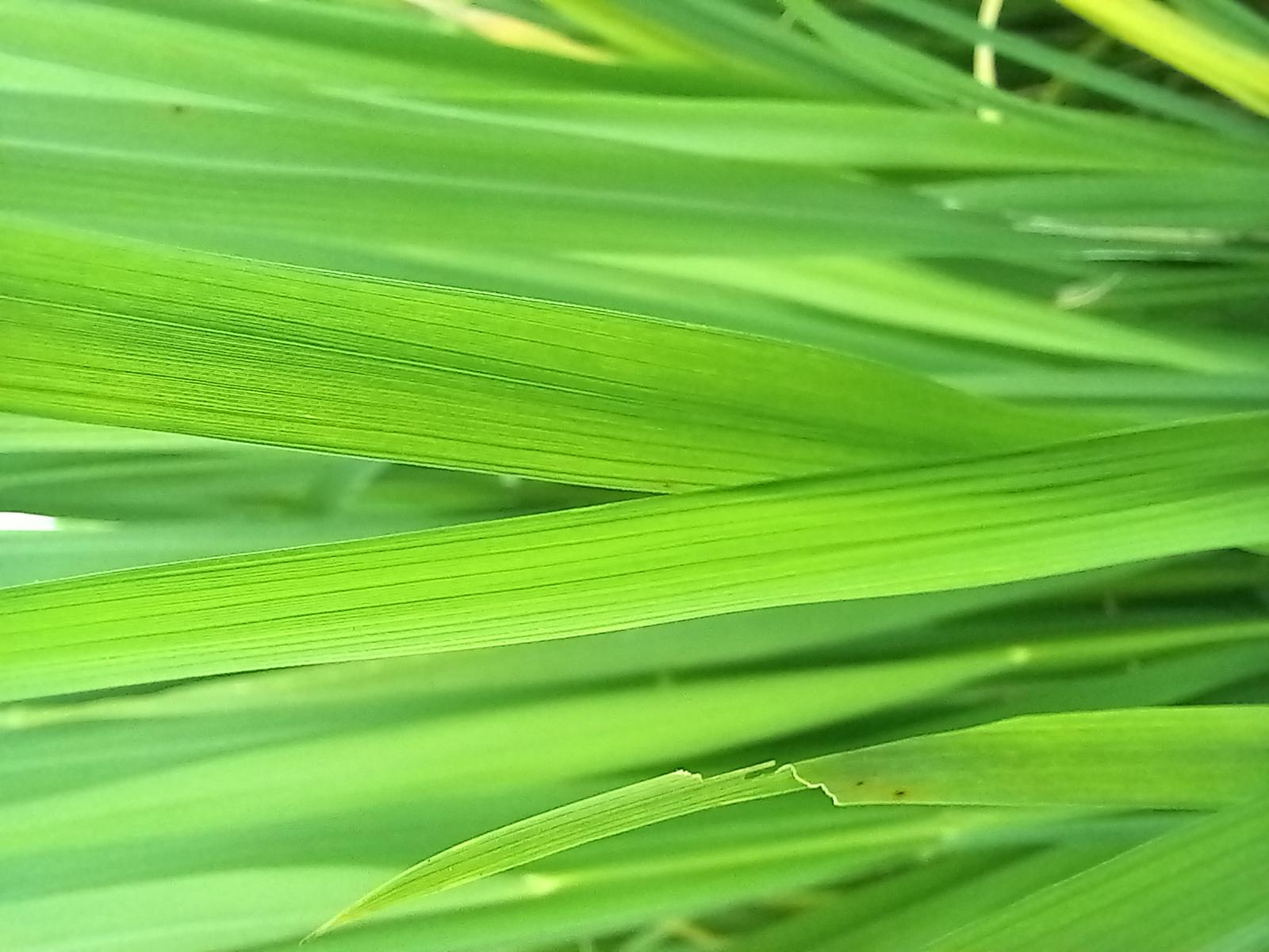Healthy: (338, 0, 715, 951)
